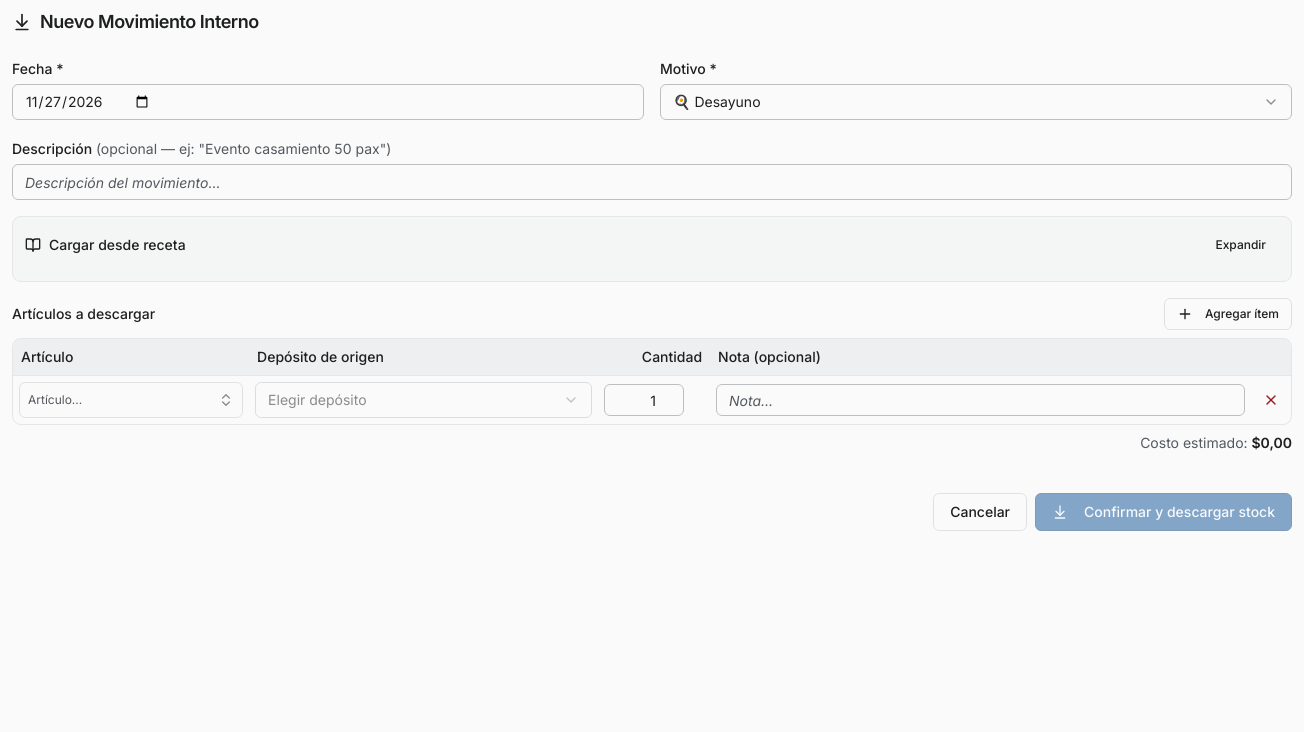
Test case: InternalMovementForm › el botón de confirmar arranca deshabilitado hasta elegir un artículo en el renglón
expect the button with test id "btn-confirm-internal-mov" is disabled: met, box [1035, 493, 1292, 531]
Click the button with test id "btn-add-im-item" at (1228, 314), box [1164, 298, 1292, 330]
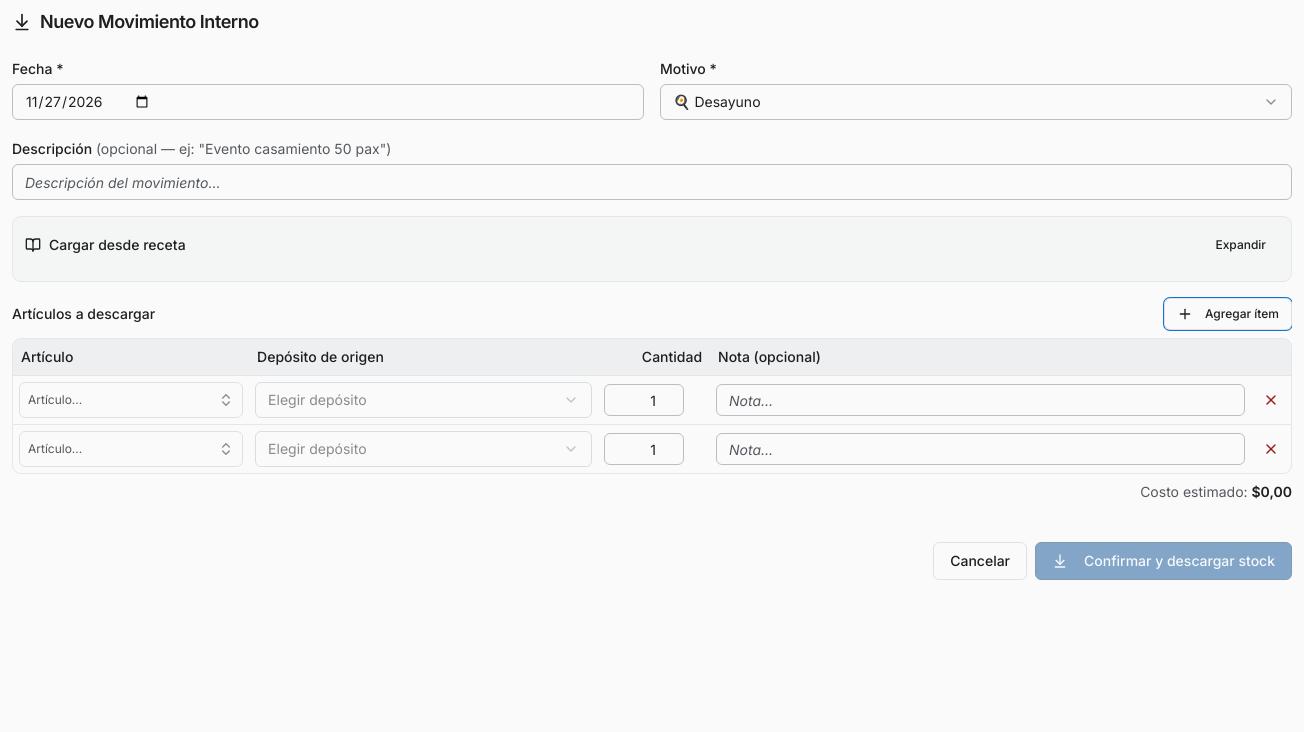
expect the button with test id "btn-confirm-internal-mov" is disabled: met, box [1035, 542, 1292, 580]
expect the dropdown with test id "select-im-item-1" is shown: met, box [19, 431, 243, 467]
